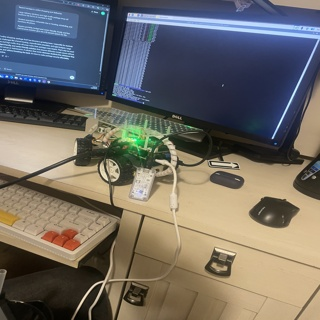vehicle: (70, 105, 186, 182)
